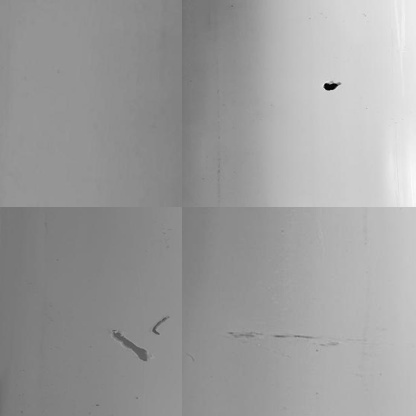fengxi: (150, 310, 170, 337)
kongdong: (109, 327, 152, 367), (321, 80, 342, 94)
